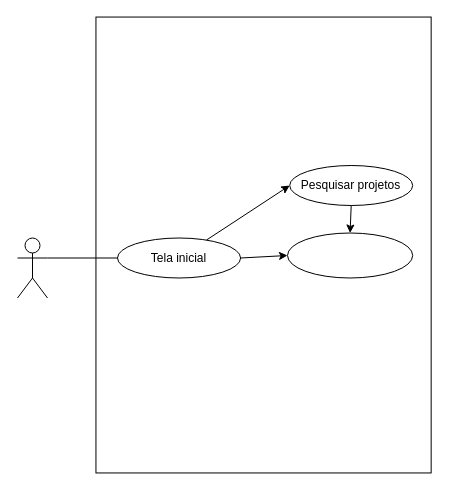
This 449x491 diagram has some shape labels left out. The centre of each missing label's shape, as x and y in pixels:
"Aluno" goes at point (32, 267).
"Selecionar Projeto" goes at point (349, 255).
